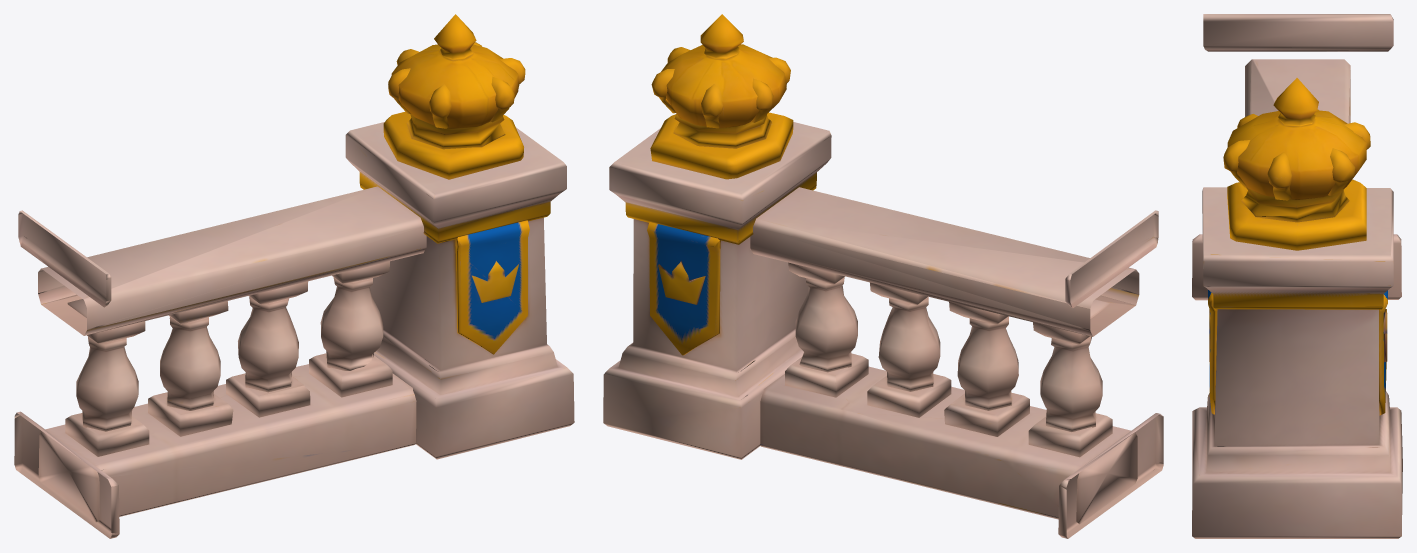
File: fence_royal_open.glb
The picture shows the model from 3 angles, left to right: view 1: azimuth 30°, elevation 25°; view 2: azimuth 150°, elevation 25°; view 3: azimuth 270°, elevation 25°; orthographic projection. The views are drawn at different scales.
Parts seen in each view (by area): view 1: geometry_0; view 2: geometry_0; view 3: geometry_0.
Boxes of the visible parts, x1,y1,x2,y2 form: geometry_0: (14, 14, 574, 538); geometry_0: (603, 14, 1163, 538); geometry_0: (1192, 14, 1402, 538).
Bounding box in the file's own units: 0.7461 × 0.6094 × 0.2725.
Materials: 1 (1 with a texture image).
